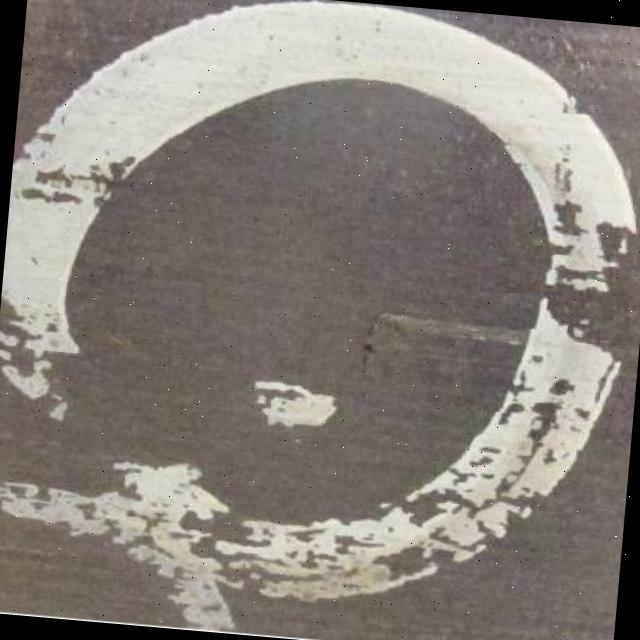Contact_Fatigue_Cracks: (352, 311, 388, 409)
